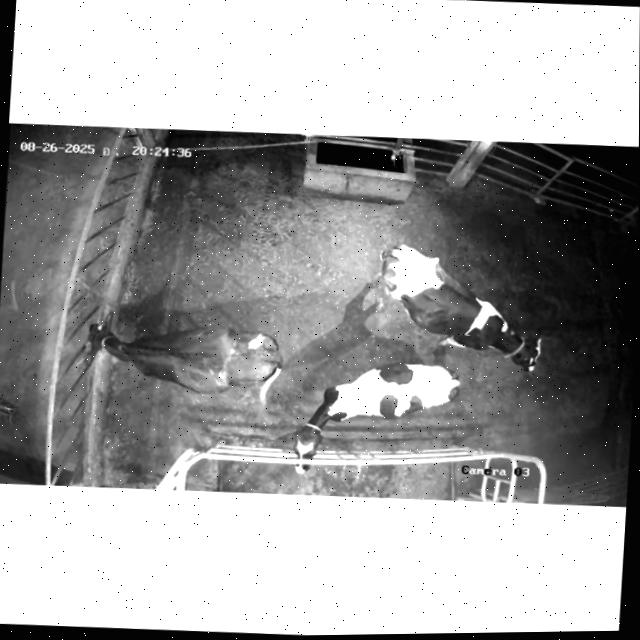stand: (358, 231, 560, 379), (290, 353, 471, 485)
